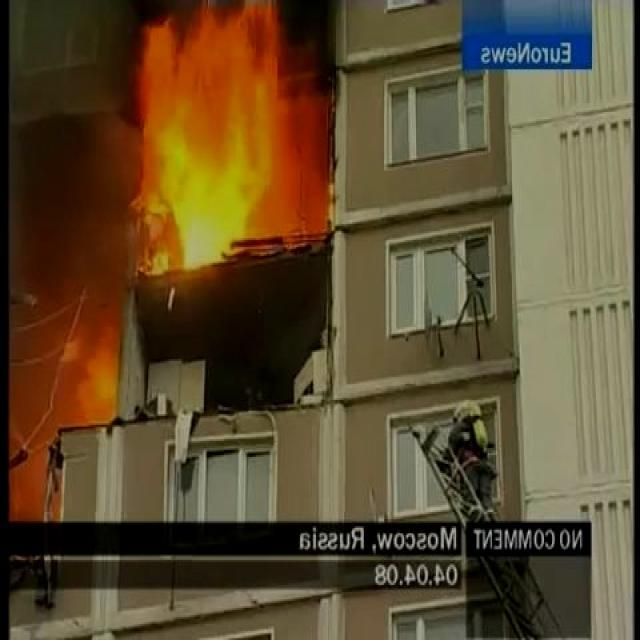fire: (128, 7, 324, 302), (34, 290, 125, 436)
smoke: (12, 80, 124, 279)
